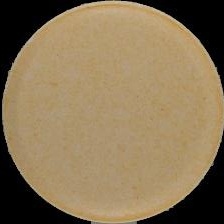0615-7912: (0, 0, 224, 224)
